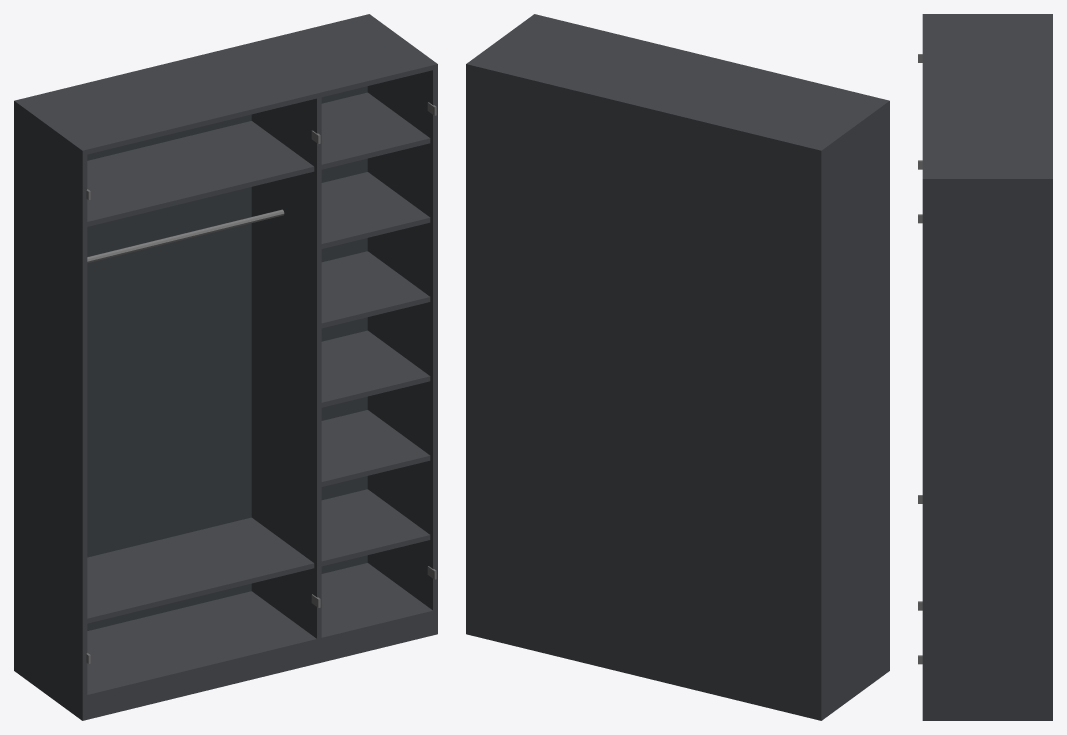
File: Wardrobe5_C2.fbx
3 renders of one model, left to right at view 1: azimuth 30°, elevation 25°; view 2: azimuth 150°, elevation 25°; view 3: azimuth 270°, elevation 25°, orthographic. The views are drawn at different scales.
Parts seen in each view (by area): view 1: Wardrobe5_C2; view 2: Wardrobe5_C2; view 3: Wardrobe5_C2.
Boxes of the visible parts, <box> form: Wardrobe5_C2: <box>14,14,437,720</box>; Wardrobe5_C2: <box>466,14,889,720</box>; Wardrobe5_C2: <box>918,14,1052,720</box>.
Bounding box in the file's own units: 150 × 230 × 51.79.
